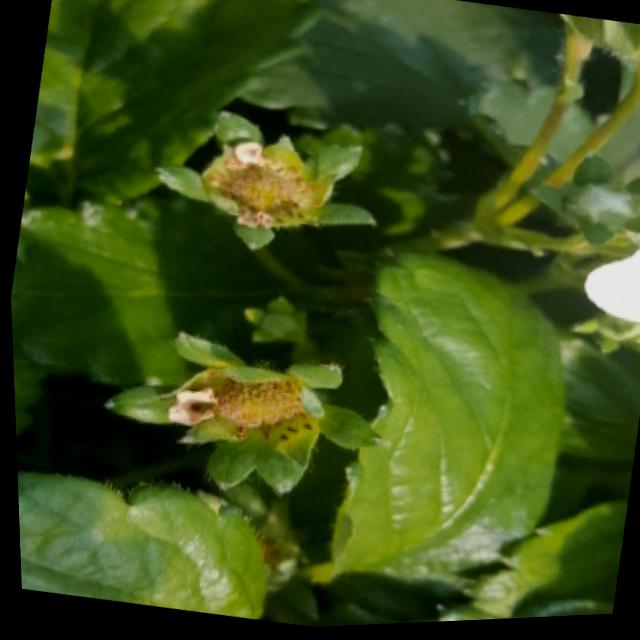Blossom Blight: (190, 373, 307, 444), (205, 152, 312, 223)
